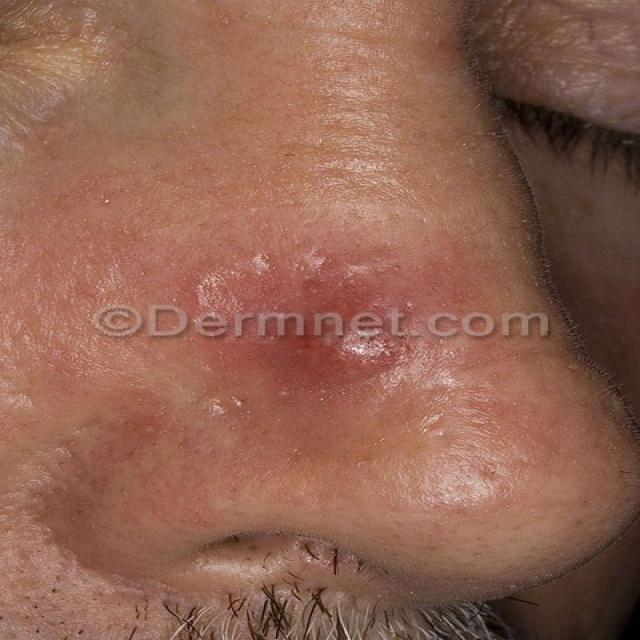acne: (257, 256, 407, 404)
